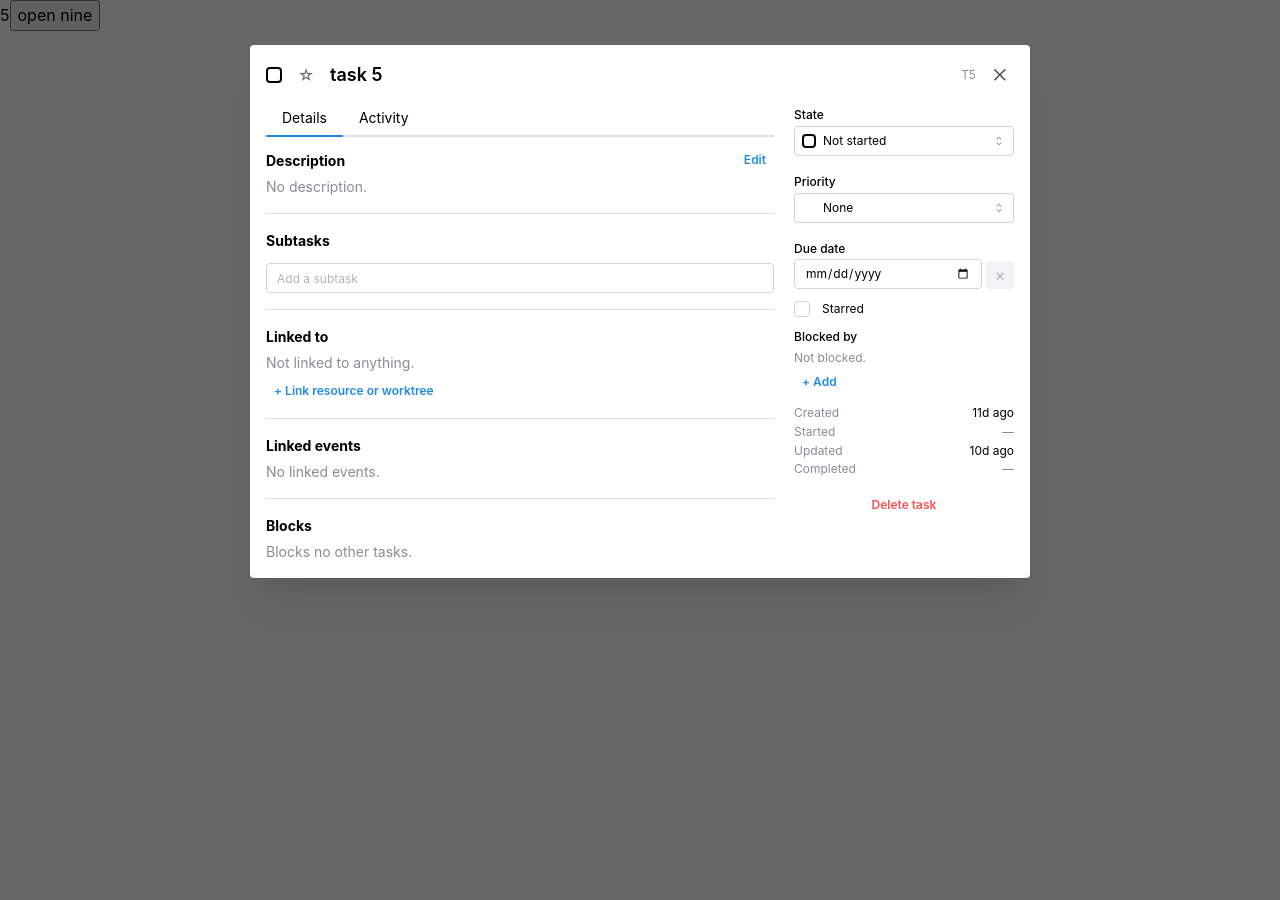
Scenario: TaskDetailModal › saves priority on change, and shows it before the server replies
Click the field labelled "Priority". click: (904, 208)
box: [794,193,1014,223]
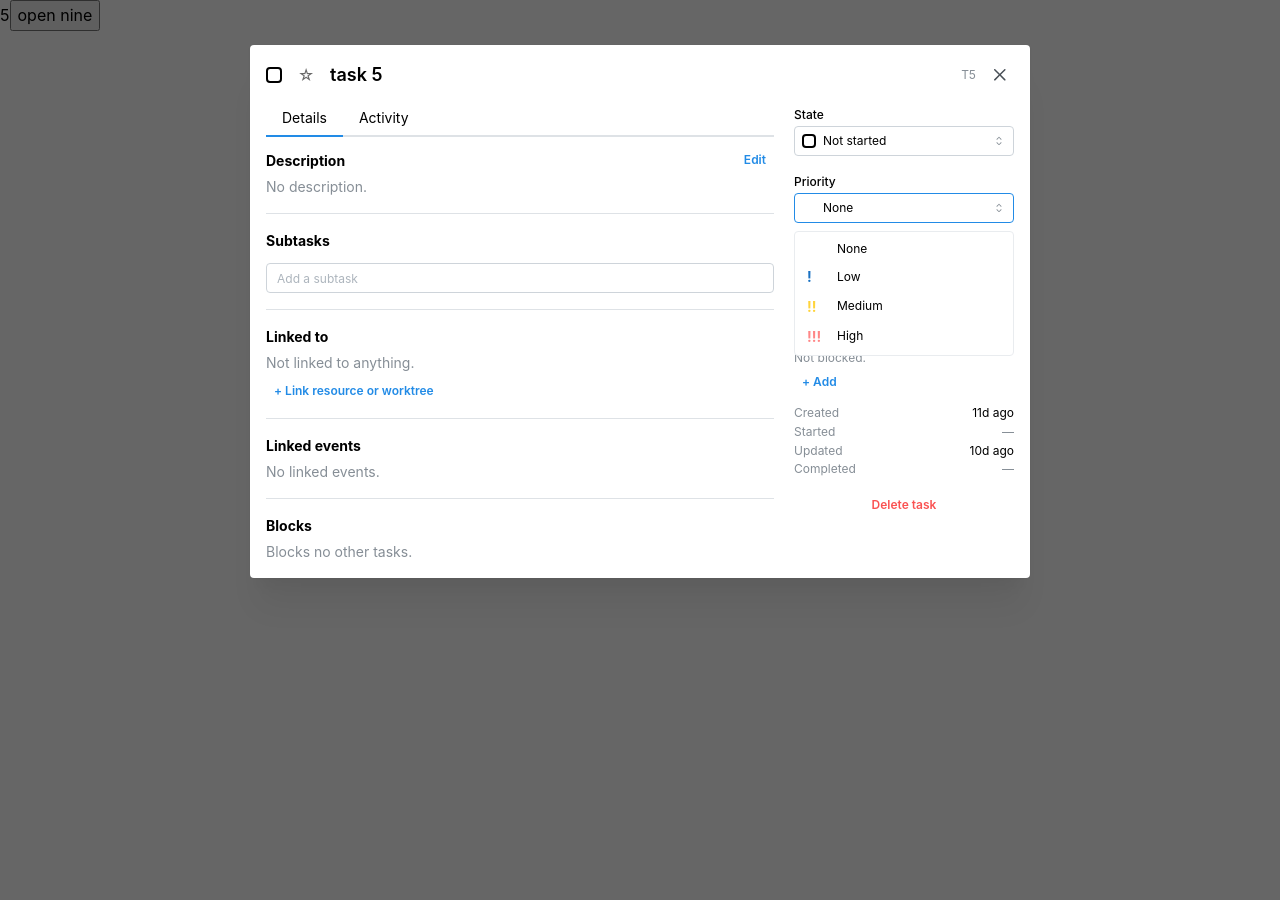
Click the option "!!! High". click: (835, 336)
box: [807,328,863,345]
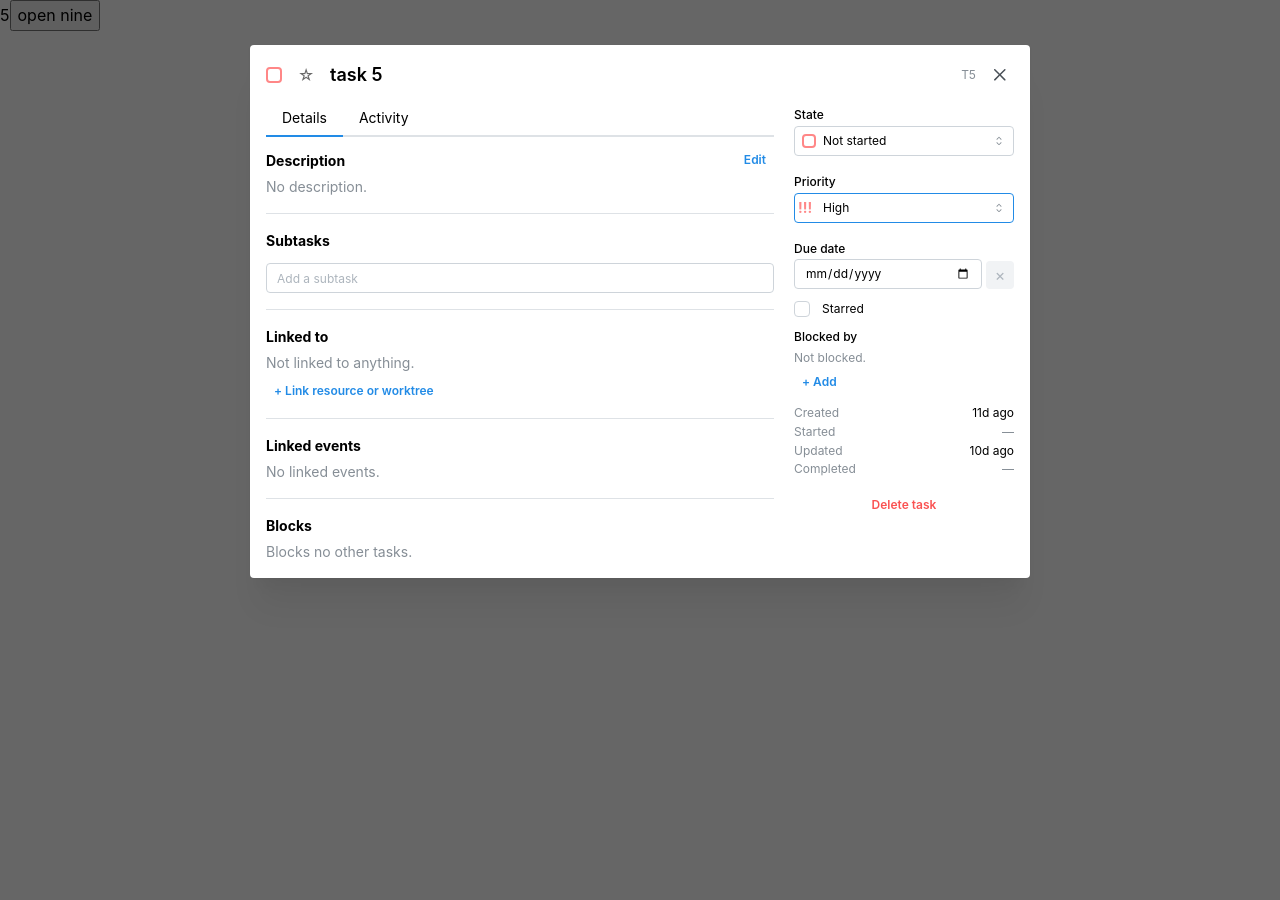
Result: the field labelled "Priority" holds "High" at [794,193,1014,223]
